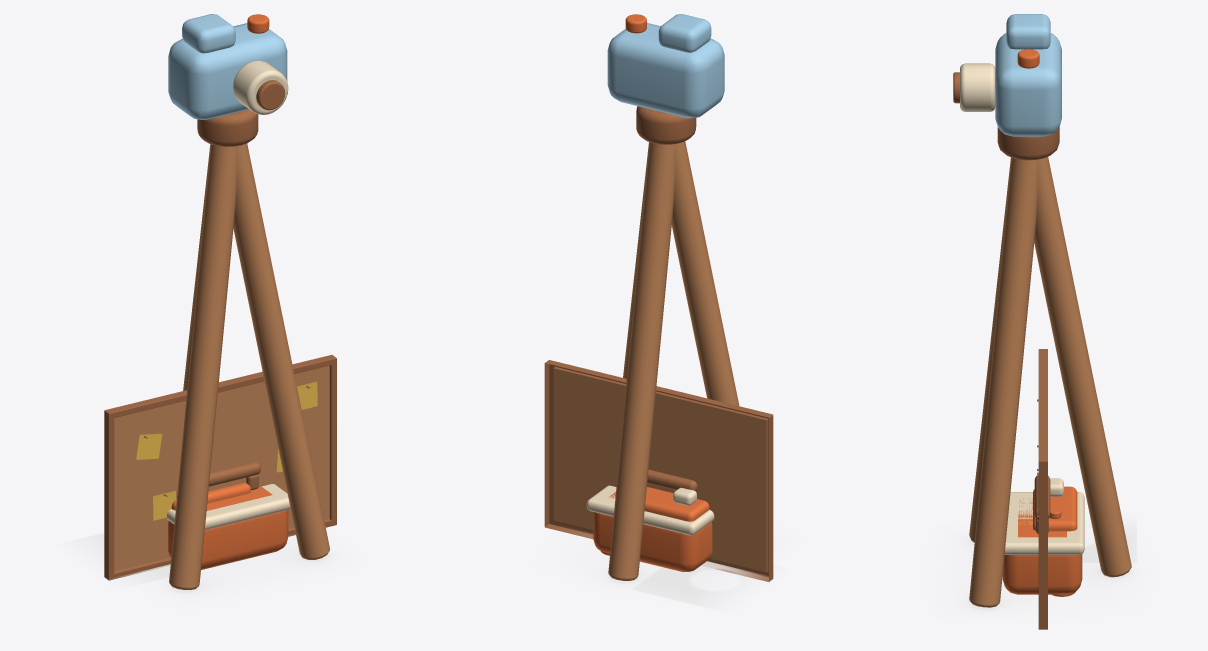
File: interest_photo_v1.glb
The picture shows the model from 3 angles, left to right: view 1: azimuth 30°, elevation 25°; view 2: azimuth 150°, elevation 25°; view 3: azimuth 270°, elevation 25°; orthographic projection. The views are drawn at different scales.
Visible parts, largest first — view 1: tripod_camera, photo_board_board, tripod_camera_body, shadow_tripod_camera, camera_case_body, camera_case_lid, tripod_camera_head, tripod_camera_top, tripod_camera_lens, camera_case_handle, tripod_camera_lens_glass, film_camera_top; view 2: photo_board_board, tripod_camera, tripod_camera_body, shadow_tripod_camera, camera_case_body, tripod_camera_head, camera_case_lid, tripod_camera_top, film_camera_top, camera_case_handle; view 3: tripod_camera, tripod_camera_body, shadow_tripod_camera, camera_case_body, photo_board_board, camera_case_lid, tripod_camera_lens, tripod_camera_top, tripod_camera_head, film_camera_top.
Boxes of the visible parts, <box> form: tripod_camera: <box>169,143,329,589</box>; photo_board_board: <box>104,355,336,580</box>; tripod_camera_body: <box>168,23,287,119</box>; shadow_tripod_camera: <box>65,533,339,599</box>; camera_case_body: <box>168,486,288,569</box>; camera_case_lid: <box>166,484,290,529</box>; tripod_camera_head: <box>197,109,258,146</box>; tripod_camera_top: <box>182,14,235,53</box>; tripod_camera_lens: <box>233,60,288,114</box>; camera_case_handle: <box>209,462,260,486</box>; tripod_camera_lens_glass: <box>256,80,285,110</box>; film_camera_top: <box>171,482,250,510</box>; photo_board_board: <box>544,360,773,581</box>; tripod_camera: <box>608,141,739,580</box>; tripod_camera_body: <box>607,23,724,118</box>; shadow_tripod_camera: <box>576,534,781,610</box>; camera_case_body: <box>593,492,712,571</box>; tripod_camera_head: <box>636,106,696,144</box>; camera_case_lid: <box>586,485,714,535</box>; tripod_camera_top: <box>658,14,711,52</box>; film_camera_top: <box>644,487,709,521</box>; camera_case_handle: <box>647,469,697,491</box>; tripod_camera: <box>969,157,1131,607</box>; tripod_camera_body: <box>995,33,1061,136</box>; shadow_tripod_camera: <box>951,518,1139,614</box>; camera_case_body: <box>1002,498,1082,594</box>; photo_board_board: <box>1037,349,1047,629</box>; camera_case_lid: <box>1004,492,1084,554</box>; tripod_camera_lens: <box>960,63,995,111</box>; tripod_camera_top: <box>1006,14,1050,49</box>; tripod_camera_head: <box>997,127,1059,160</box>; film_camera_top: <box>1033,486,1077,531</box>.
Size of the model in its own units: 0.6924 by 1.35 by 0.6826.
7 materials, 1 textured.
